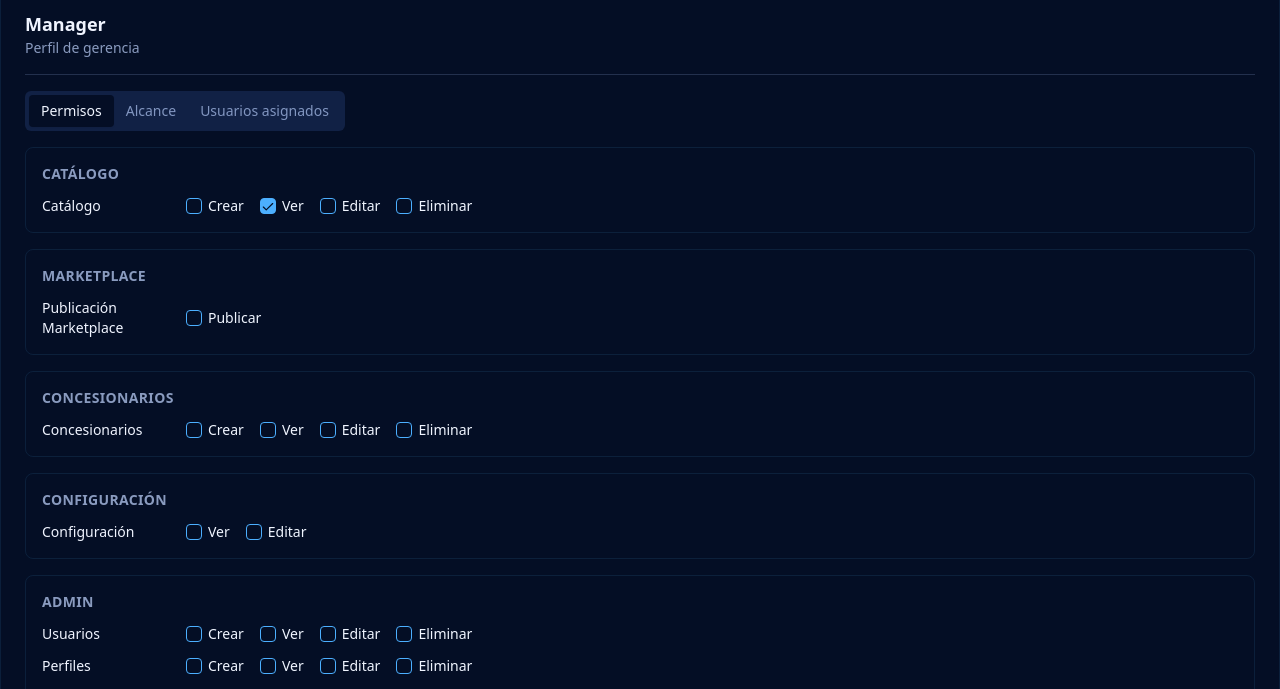
Scenario: RoleDetailPanel › Cancelar discards local edits
This screenshot has width=1280, height=689.
Click the checkbox named "catalog:create". click: click(194, 206)
box: top-left (186, 198), bottom-right (202, 214)
(page scrolled)
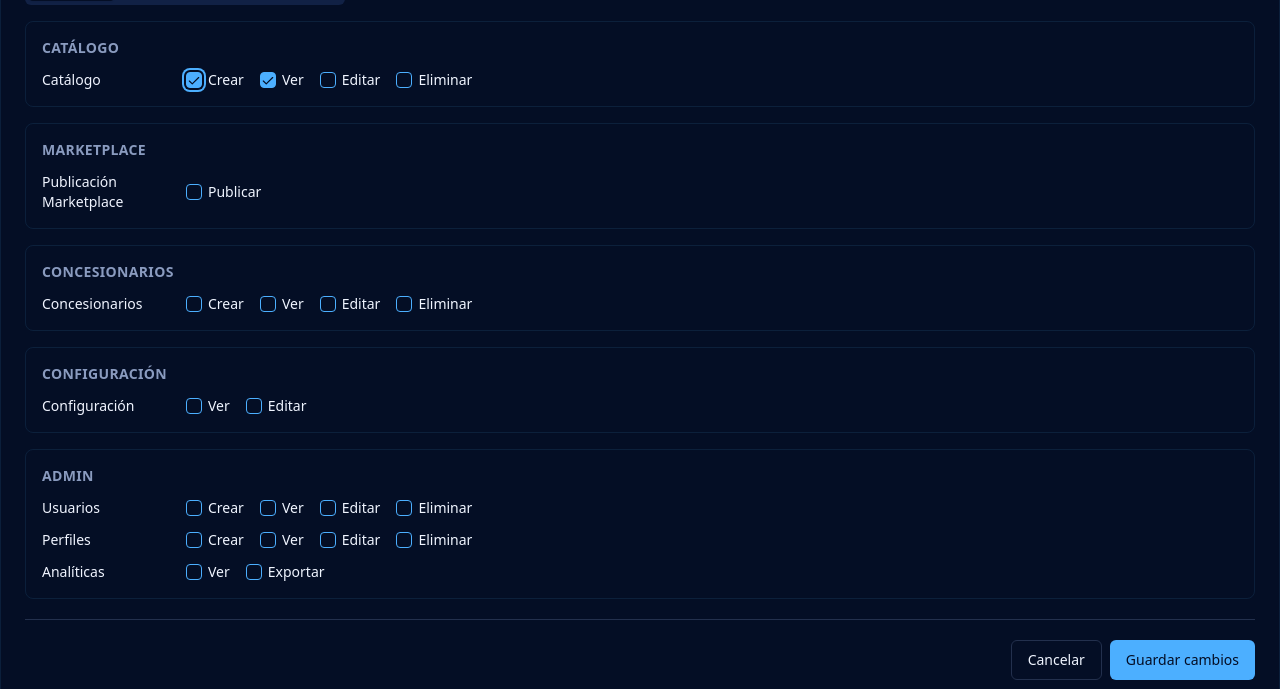
Check: the checkbox named "catalog:create" is checked, box top-left (186, 72), bottom-right (202, 88)
Click the button "Cancelar". click: click(1056, 660)
box: top-left (1011, 640), bottom-right (1102, 680)
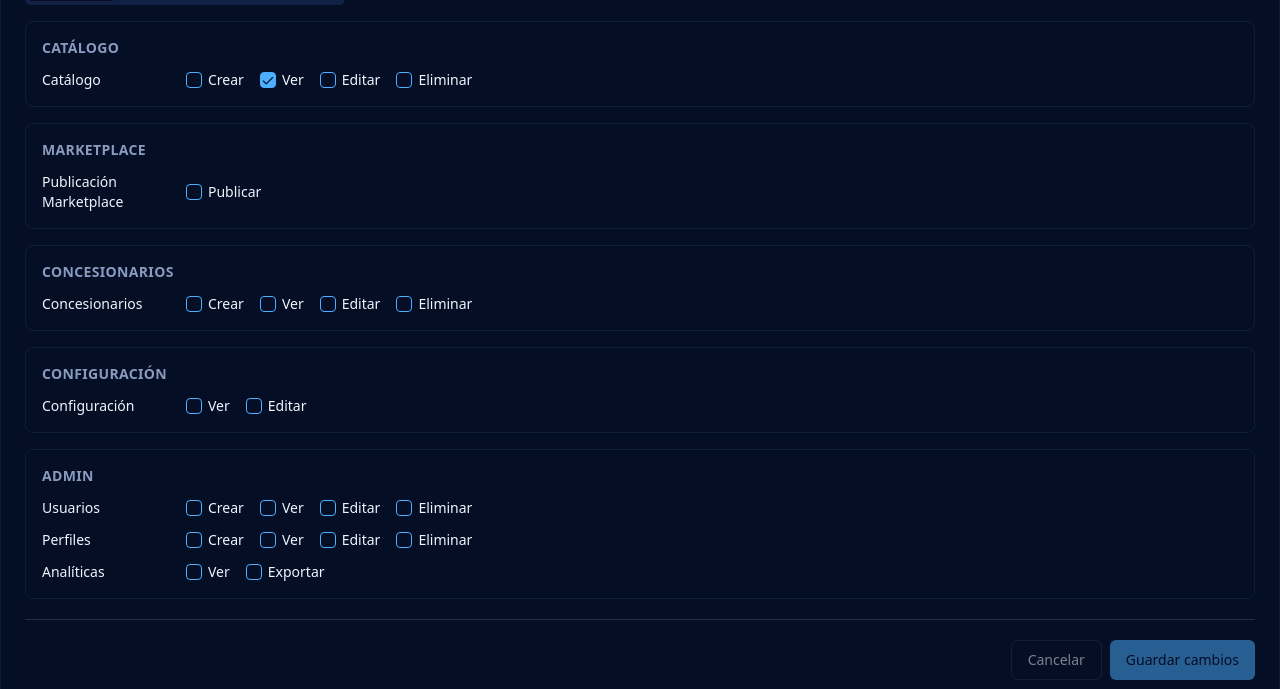
Check: the checkbox named "catalog:create" is not checked, box top-left (186, 72), bottom-right (202, 88)
Check: the button "Guardar cambios" is disabled, box top-left (1110, 640), bottom-right (1255, 680)
